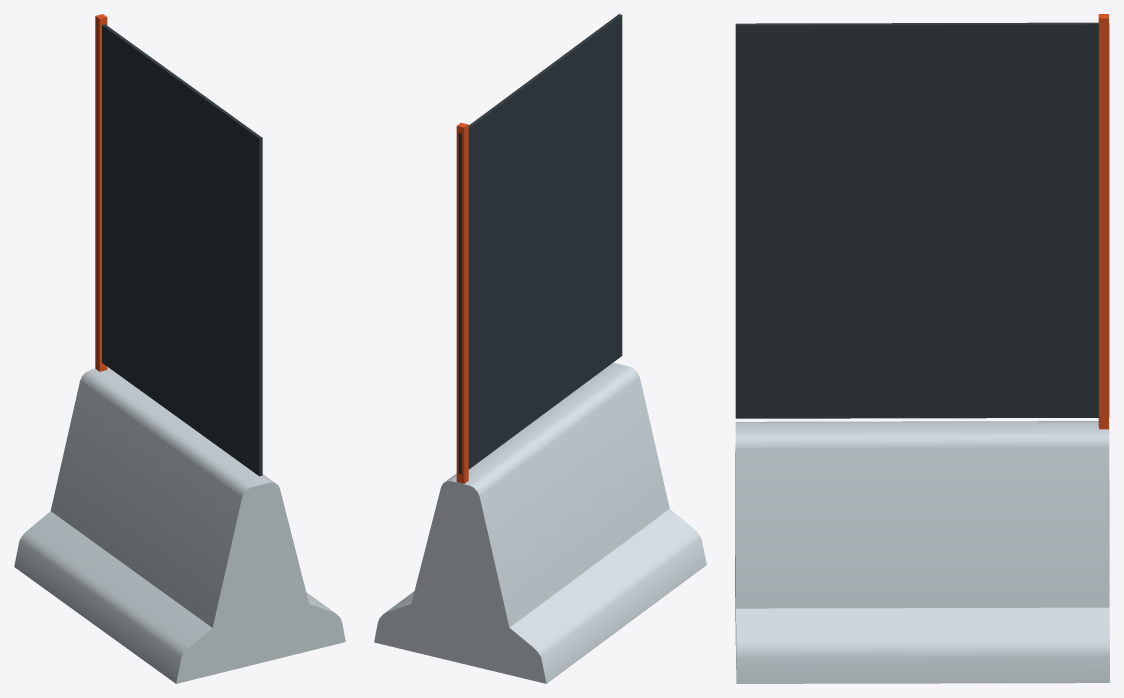
Rendered from Ormigon_03.fbx.
The picture shows the model from 3 angles, left to right: view 1: azimuth 30°, elevation 25°; view 2: azimuth 150°, elevation 25°; view 3: azimuth 270°, elevation 25°; orthographic projection. The views are drawn at different scales.
Parts seen in each view (by area): view 1: Ormigon_03; view 2: Ormigon_03; view 3: Ormigon_03.
Boxes of the visible parts, <box> form: Ormigon_03: <box>14,14,345,683</box>; Ormigon_03: <box>374,14,706,683</box>; Ormigon_03: <box>735,14,1109,683</box>.
Size of the model in its own units: 202 by 596 by 328.
